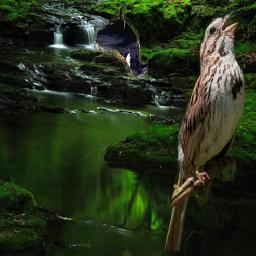Crow: (94, 5, 148, 80)
Sparrow: (163, 7, 245, 251)
